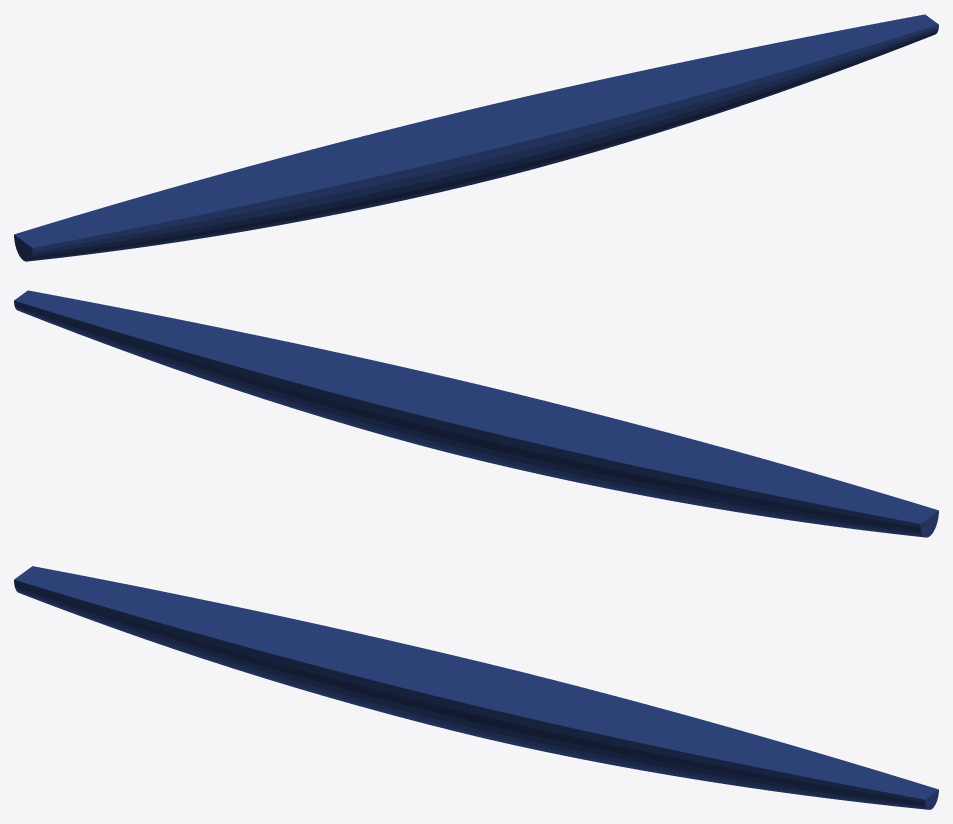
Rendered from hull_main.dae.
3 renders of one model, top to bottom at view 1: azimuth 30°, elevation 25°; view 2: azimuth 150°, elevation 25°; view 3: azimuth 330°, elevation 25°, orthographic.
Parts seen in each view (by area): view 1: hull_main; view 2: hull_main; view 3: hull_main.
Part boxes in pixels (left/top/right/bottom): hull_main: left=14, top=14, right=938, bottom=261; hull_main: left=14, top=290, right=938, bottom=537; hull_main: left=14, top=566, right=938, bottom=809.
Size of the model in its own units: 6.22 by 0.5496 by 0.3148.
